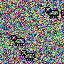sheep: (45, 6, 60, 19), (10, 35, 26, 46), (21, 50, 35, 61)
